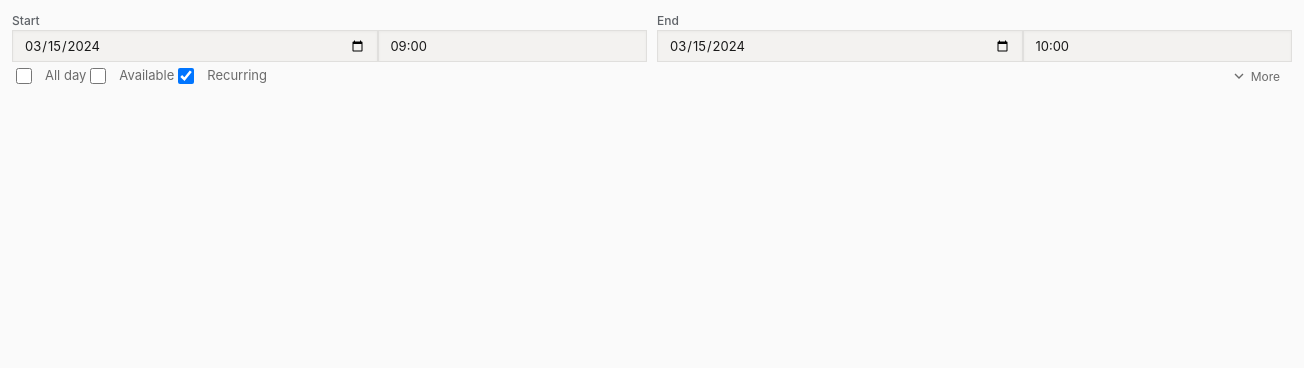
Test case: EventFormFields › weekday selection with firstDayOfWeek=0 (Sunday) › renders weekday buttons when recurrence is weekly
This screenshot has width=1304, height=368.
Click the button "More".
click(1255, 76)  # box x1=1219 y1=62 x2=1292 y2=90
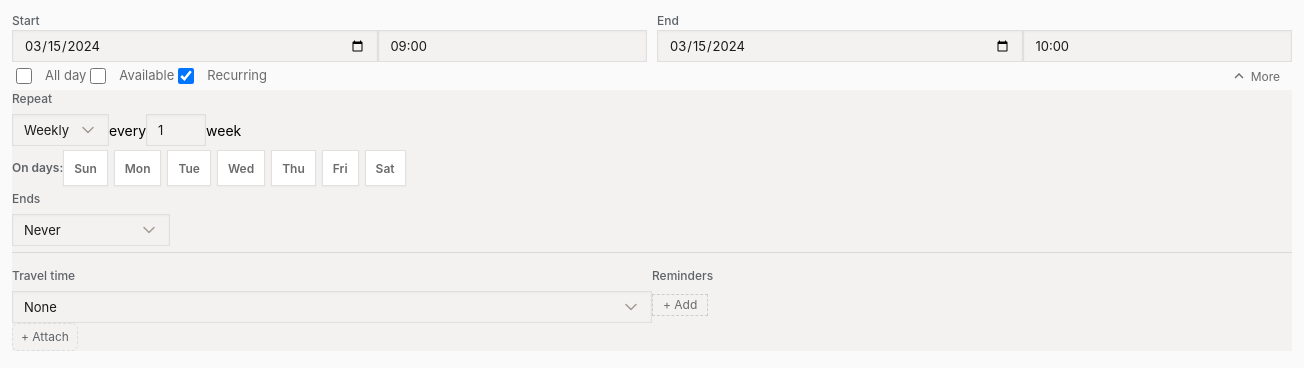
Now the button with aria-label "Include Sun" is shown, box x1=63 y1=150 x2=108 y2=186
Now the button with aria-label "Include Mon" is shown, box x1=114 y1=150 x2=162 y2=186
Now the button with aria-label "Include Tue" is shown, box x1=168 y1=150 x2=211 y2=186
